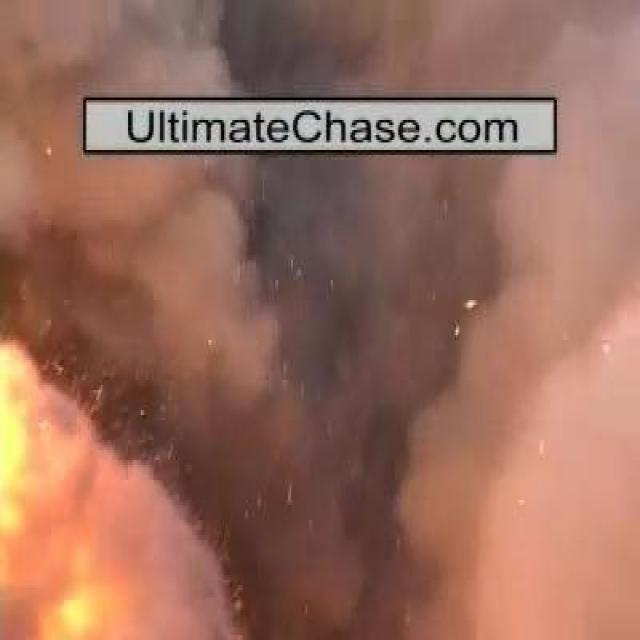Smoke: (61, 160, 584, 588)
